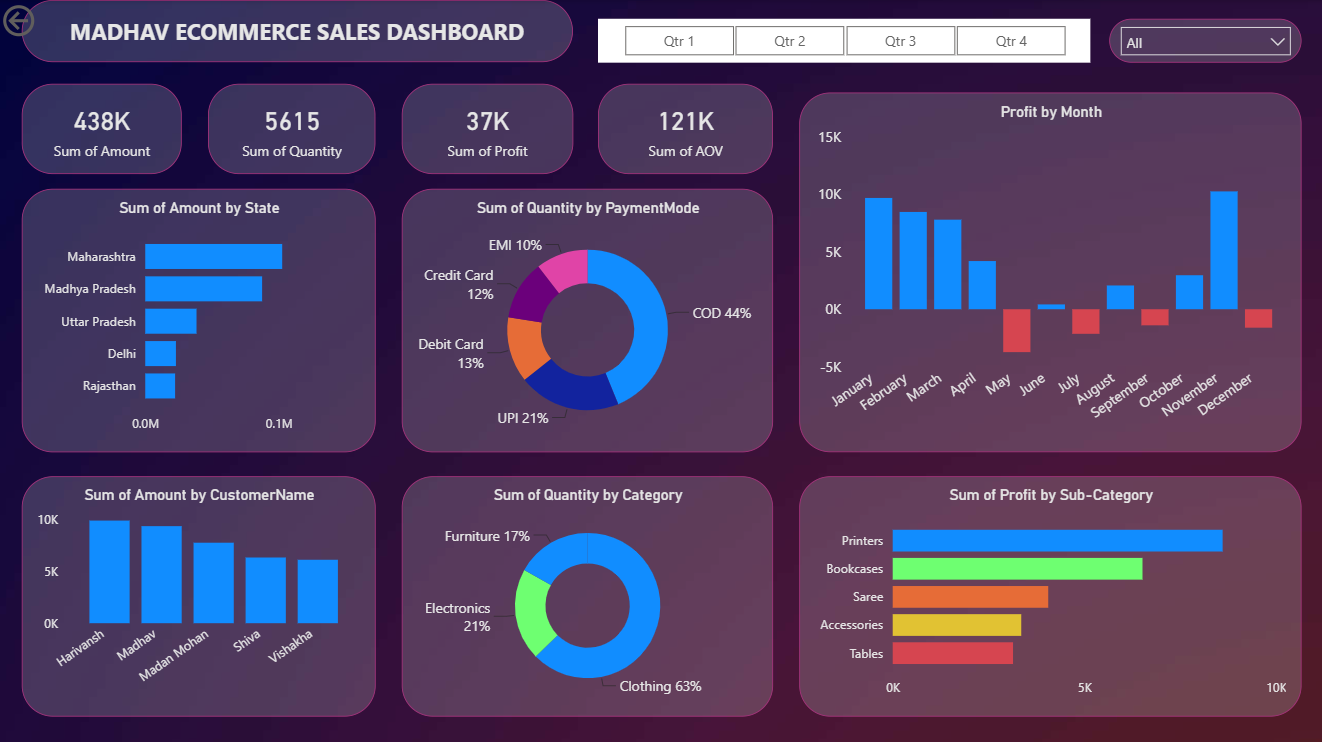

The page's visual inventory and layout, read from the dashboard file:
{"tool":"powerbi","page":{"name":"Page 1","canvas":[1280,720],"ordinal":0},"visuals":[{"type":"textbox","box":[22.9,0,532,60.3],"z":0},{"type":"columnChart","title":"Profit by Month","fields":{"Category":["Orders.Order Date.Variation.Date Hierarchy.Month"],"Y":["Sum(Details.Profit)"]},"box":[773.3,89.3,485,347.5],"z":1000},{"type":"barChart","fields":{"Category":["Details.Sub-Category"],"Y":["Sum(Details.Profit)"]},"box":[773.3,459.7,485,231.6],"z":2000},{"type":"donutChart","fields":{"Category":["Details.Category"],"Y":["Sum(Details.Quantity)"]},"box":[389.7,459.7,358.3,231.6],"z":3000},{"type":"donutChart","fields":{"Y":["Sum(Details.Quantity)"],"Category":["Details.PaymentMode"]},"box":[389.7,182.2,358.3,254.6],"z":4000},{"type":"card","fields":{"Values":["Sum(Details.Amount)"]},"box":[22.9,80.8,154.4,86.9],"z":5000},{"type":"card","fields":{"Values":["Sum(Details.Quantity)"]},"box":[202.7,80.8,161.7,86.9],"z":6000},{"type":"card","fields":{"Values":["Sum(Details.Profit)"]},"box":[389.7,80.8,165.3,86.9],"z":7000},{"type":"card","fields":{"Values":["Sum(Details.AOV)"]},"box":[579.1,80.8,168.9,86.9],"z":8000},{"type":"barChart","fields":{"Category":["Orders.State"],"Y":["Sum(Details.Amount)"]},"box":[22.9,182.2,341.4,254.6],"z":9000},{"type":"columnChart","fields":{"Category":["Orders.CustomerName"],"Y":["Sum(Details.Amount)"]},"box":[22.9,459.7,341.4,231.6],"z":10000},{"type":"actionButton","box":[0,0,100,40],"z":11000},{"type":"slicer","fields":{"Values":["Orders.State"]},"box":[1072.5,18.1,185.8,42.2],"z":12000},{"type":"slicer","fields":{"Values":["Orders.Order Date.Variation.Date Hierarchy.Quarter"]},"box":[579.1,18.1,475.3,42.2],"z":13000}]}

Visuals, with their boxes in screenshot pixels (x1, y1, x2, y2), scaled from the page's 1280x720 canvas onto the 1322x742 screenshot:
textbox: locate(24, 0, 573, 62)
"Profit by Month" columnChart: locate(799, 92, 1300, 450)
barChart - Details.Sub-Category x Sum(Details.Profit): locate(799, 474, 1300, 712)
donutChart - Details.Category x Sum(Details.Quantity): locate(402, 474, 773, 712)
donutChart - Sum(Details.Quantity) x Details.PaymentMode: locate(402, 188, 773, 450)
card - Sum(Details.Amount): locate(24, 83, 183, 173)
card - Sum(Details.Quantity): locate(209, 83, 376, 173)
card - Sum(Details.Profit): locate(402, 83, 573, 173)
card - Sum(Details.AOV): locate(598, 83, 773, 173)
barChart - Orders.State x Sum(Details.Amount): locate(24, 188, 376, 450)
columnChart - Orders.CustomerName x Sum(Details.Amount): locate(24, 474, 376, 712)
actionButton: locate(0, 0, 103, 41)
slicer - Orders.State: locate(1108, 19, 1300, 62)
slicer - Orders.Order Date.Variation.Date Hierarchy.Quarter: locate(598, 19, 1089, 62)
